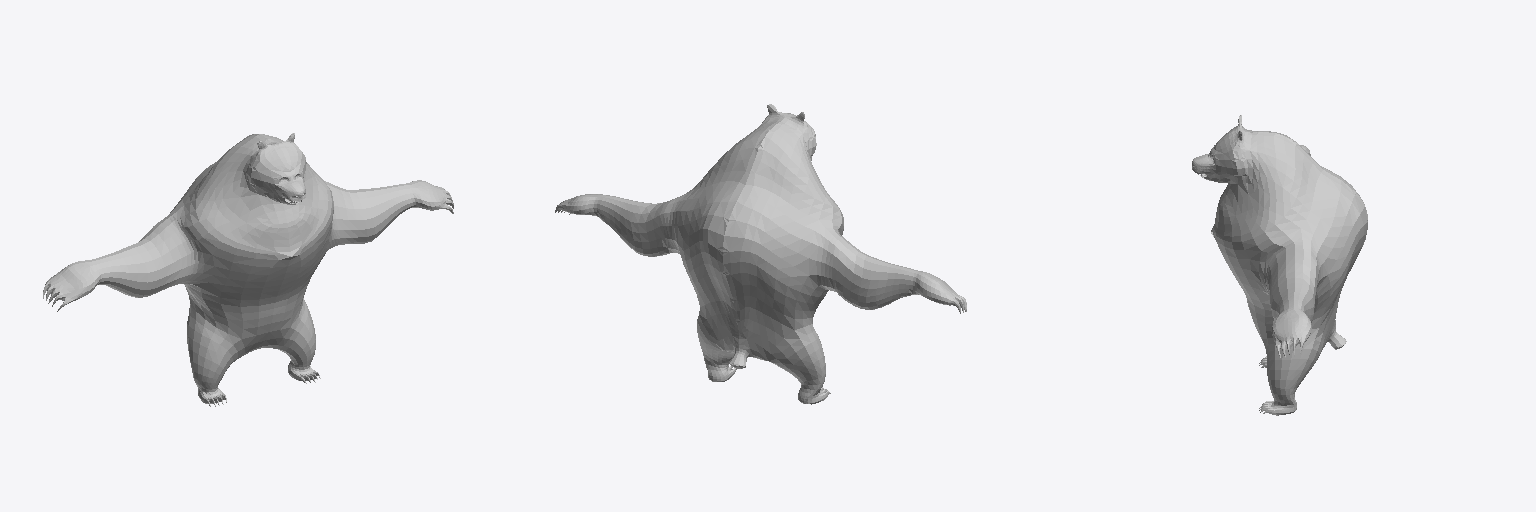
The model's file is BearModelSmooth.obj.
The picture shows the model from 3 angles: view 1: azimuth 30°, elevation 25°; view 2: azimuth 150°, elevation 25°; view 3: azimuth 270°, elevation 25°; orthographic projection.
Parts seen in each view (by area): view 1: pCube1; view 2: pCube1; view 3: pCube1.
Boxes of the visible parts, x1,y1,x2,y2 form: pCube1: [43, 133, 453, 406]; pCube1: [555, 104, 966, 404]; pCube1: [1192, 115, 1367, 415].
Size of the model in its own units: 31.41 by 19.66 by 11.84.